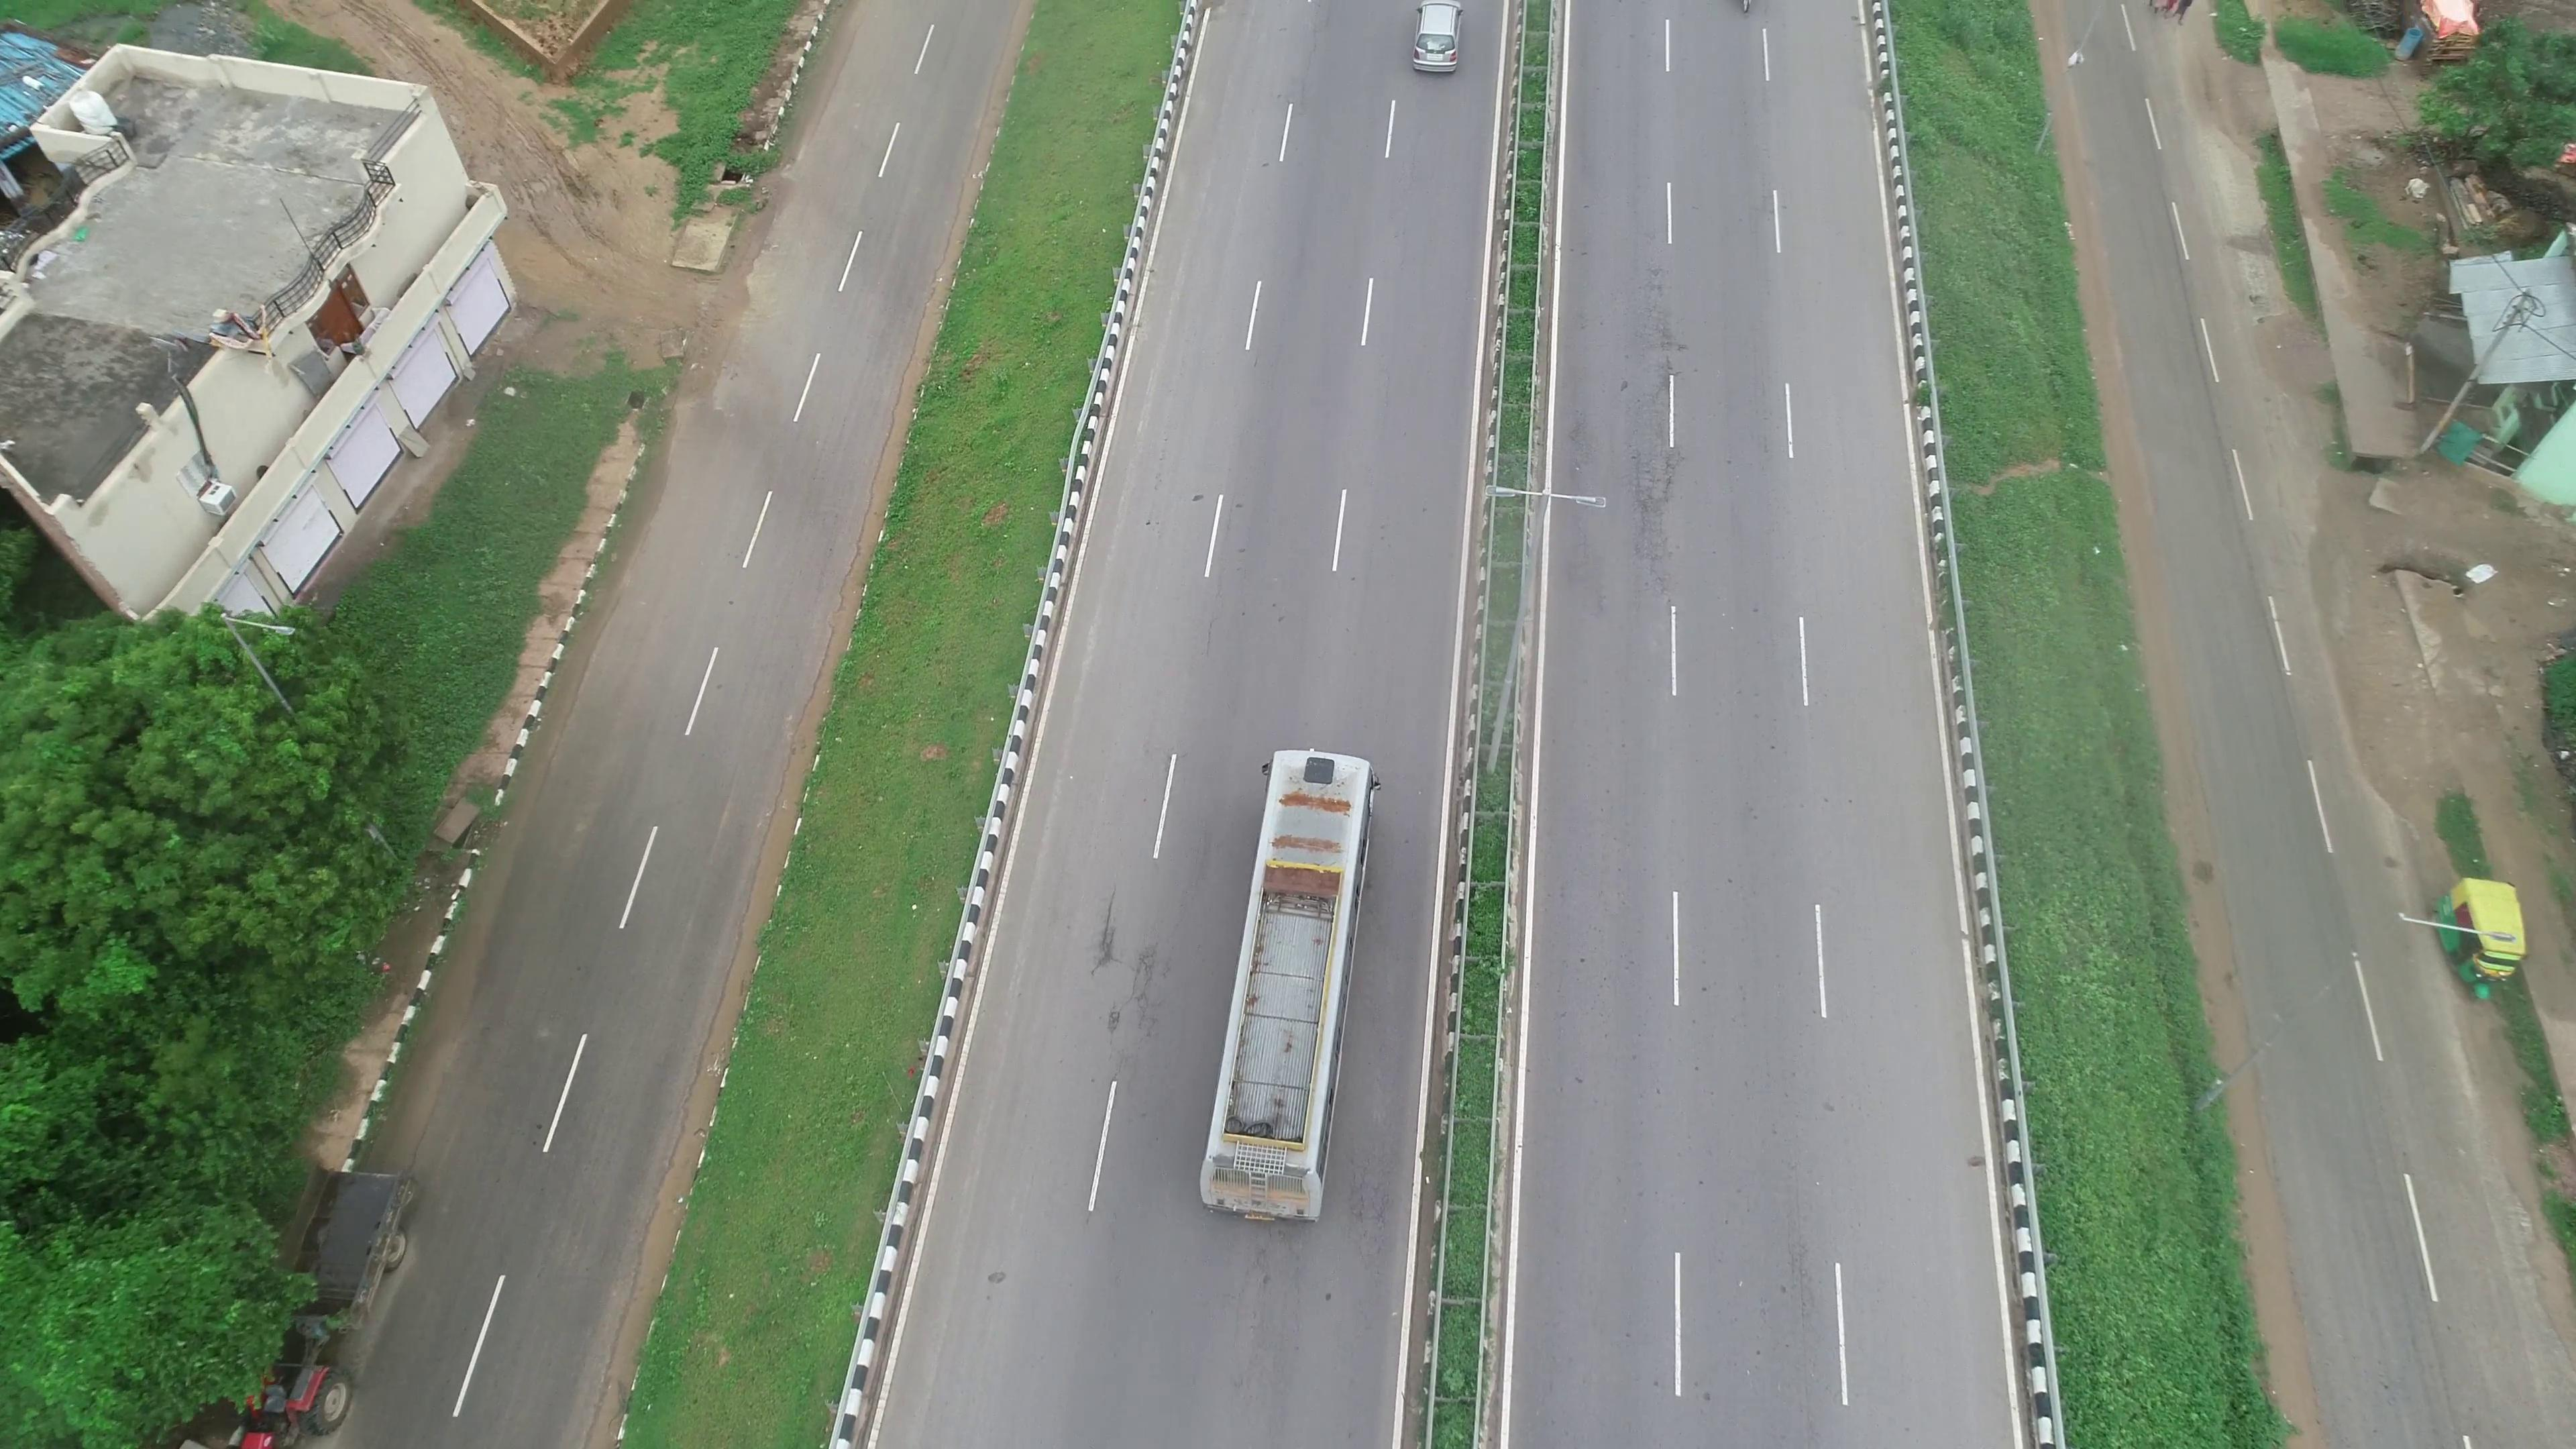Alligator_cracks: (1624, 382, 1683, 602)
